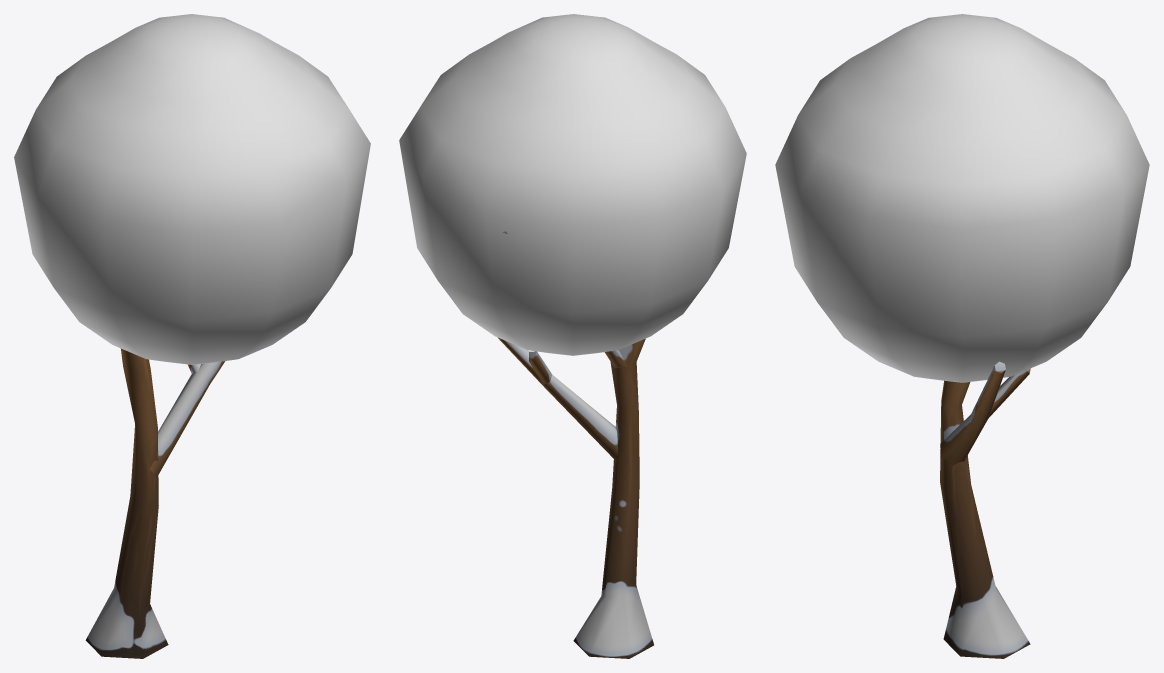
The model's file is Tree_B_2.fbx.
3 views of the same model, side by side, from view 1: azimuth 30°, elevation 25°; view 2: azimuth 150°, elevation 25°; view 3: azimuth 270°, elevation 25° (orthographic). The views are drawn at different scales.
Visible parts, largest first — view 1: Snow, Tree_B_2; view 2: Snow, Tree_B_2; view 3: Snow, Tree_B_2.
Boxes of the visible parts, x1=… form: Snow: x1=14, y1=14, x2=370, y2=364; Tree_B_2: x1=85, y1=348, x2=225, y2=658; Snow: x1=399, y1=14, x2=746, y2=355; Tree_B_2: x1=497, y1=231, x2=653, y2=658; Snow: x1=775, y1=14, x2=1149, y2=382; Tree_B_2: x1=940, y1=361, x2=1030, y2=658.
Size of the model in its own units: 208 by 393 by 208.
Materials: 2 (1 with a texture image).
